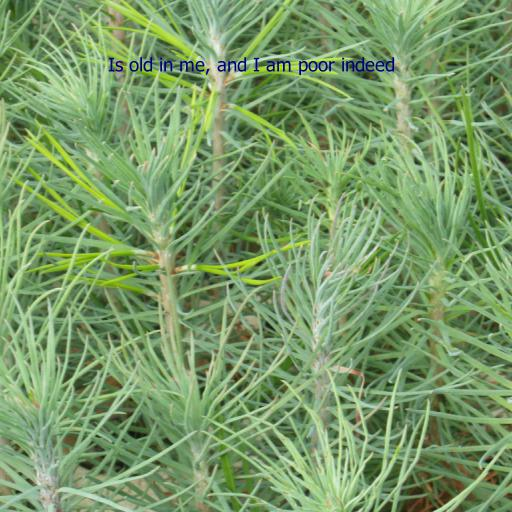Tahoma: (107, 57, 395, 76)
